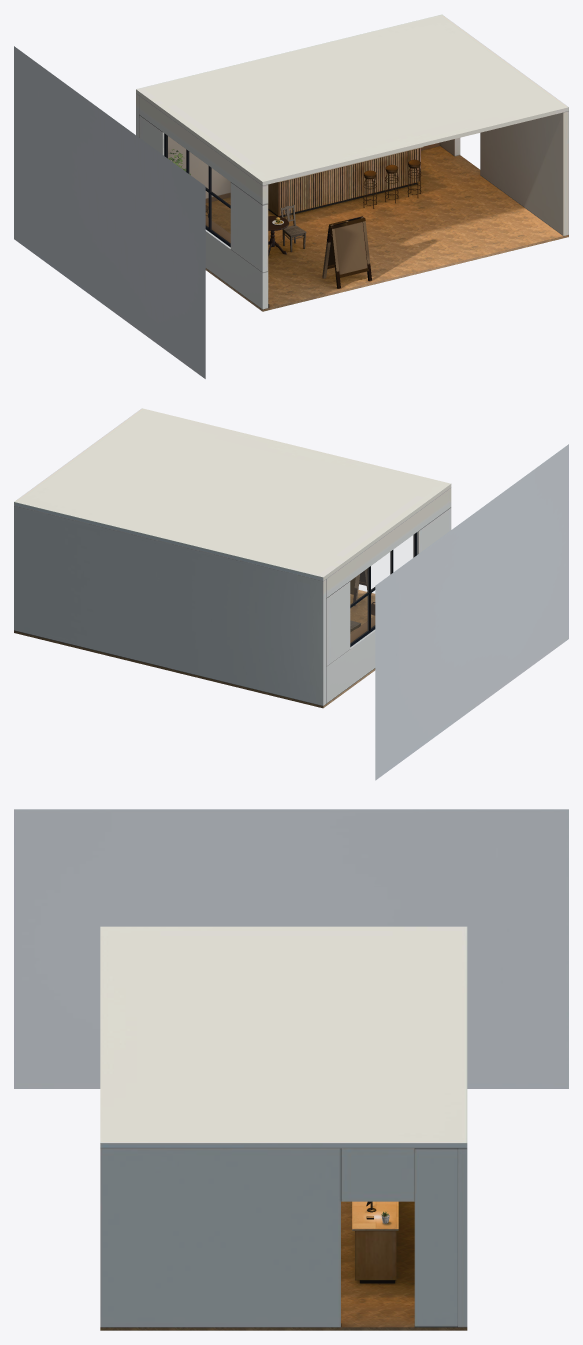
The model's file is cafe-corner.glb.
3 views of the same model, one above another, from view 1: azimuth 30°, elevation 25°; view 2: azimuth 150°, elevation 25°; view 3: azimuth 270°, elevation 25° (orthographic). The views are drawn at different scales.
Parts seen in each view (by area): view 1: BK_room, BK_floor, BK_counter, BK_props, SM_Window_Glass; view 2: BK_room, SM_Window_Glass, BK_floor, BK_props; view 3: BK_room, BK_floor, BK_counter.
Part boxes in pixels (<box>): BK_room: <box>14,14,568,378</box>; BK_floor: <box>205,146,568,311</box>; BK_counter: <box>268,147,422,216</box>; BK_props: <box>205,159,421,288</box>; SM_Window_Glass: <box>166,135,230,243</box>; BK_room: <box>14,408,568,780</box>; SM_Window_Glass: <box>350,534,414,643</box>; BK_floor: <box>14,589,375,708</box>; BK_props: <box>350,568,375,633</box>; BK_room: <box>14,809,568,1327</box>; BK_floor: <box>100,1201,467,1330</box>; BK_counter: <box>352,1201,398,1283</box>.
Bounding box in the file's own units: 10.65 × 5 × 9.
13 materials, 11 textured.
